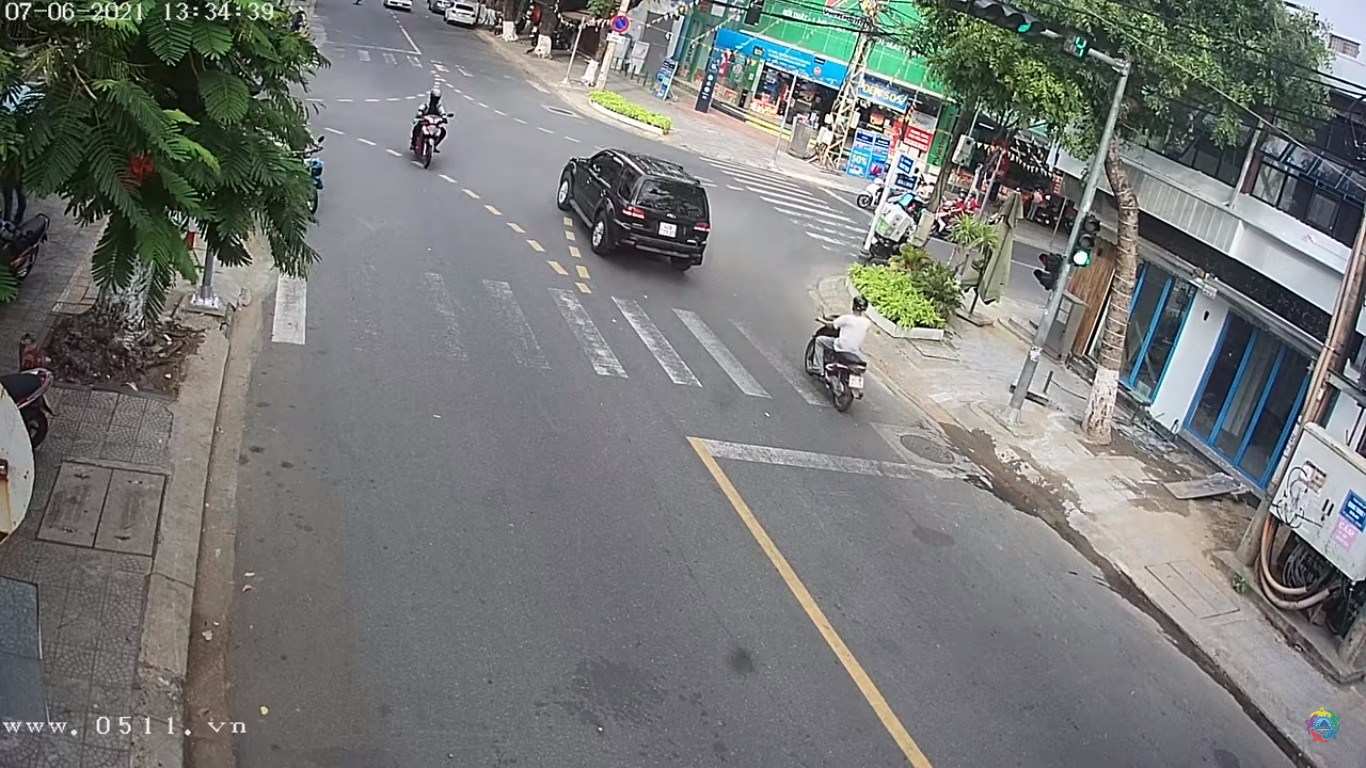car: (559, 150, 717, 273)
